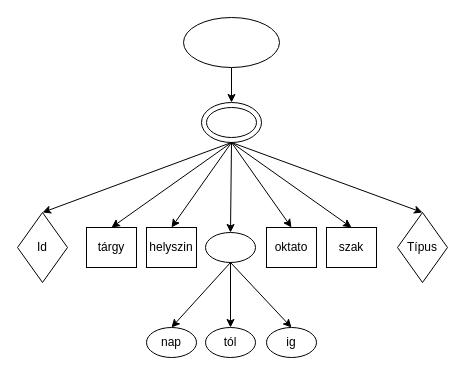
Some shapes in this 465 by 375 pixel diagram are drawn without their labels. The shapes that lost their labels are listed below. From the top down, each one's centre as x and y in pixels, then its label:
At [231,42]: "XY_orarend".
At [231,122]: "ora".
At [230,247]: "idopont".
